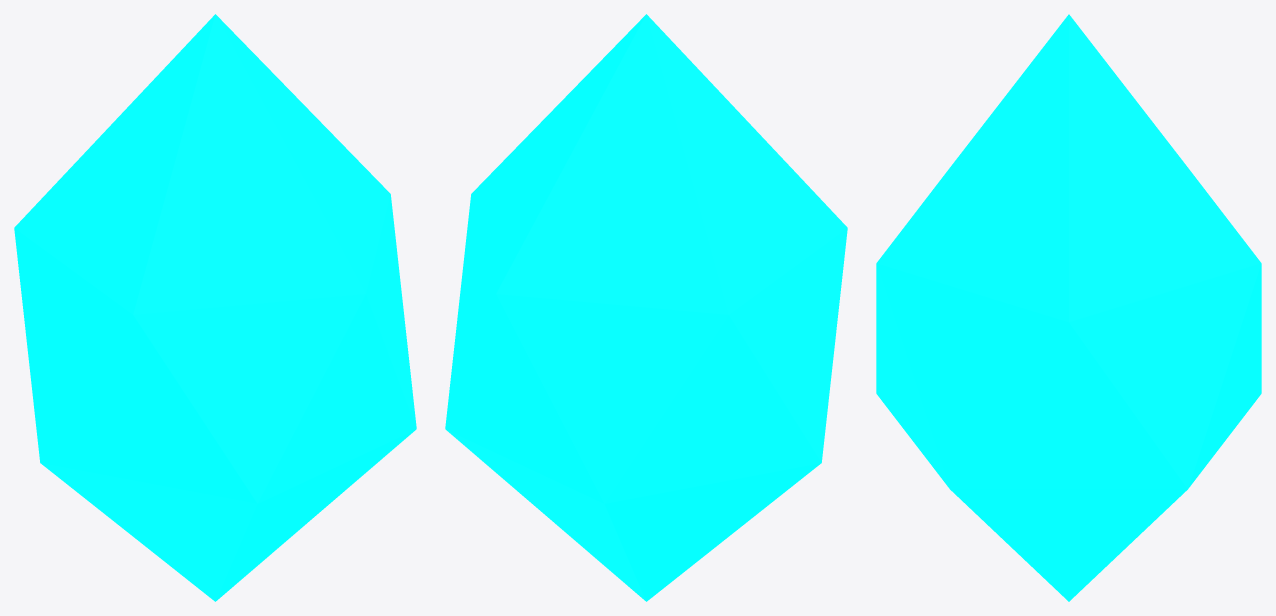
File: Collectible_DataShard.fbx
3 views of the same model, side by side, from view 1: azimuth 30°, elevation 25°; view 2: azimuth 150°, elevation 25°; view 3: azimuth 270°, elevation 25° (orthographic).
Visible parts, largest first — view 1: DataShard; view 2: DataShard; view 3: DataShard.
Part boxes in pixels (x1,y1,x2,y2): DataShard: (14,14,416,601); DataShard: (445,14,847,601); DataShard: (876,14,1261,601).
Bounding box in the file's own units: 0.2683 × 0.2552 × 0.43.
